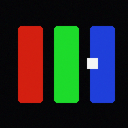1 square: (87, 58, 97, 68)
